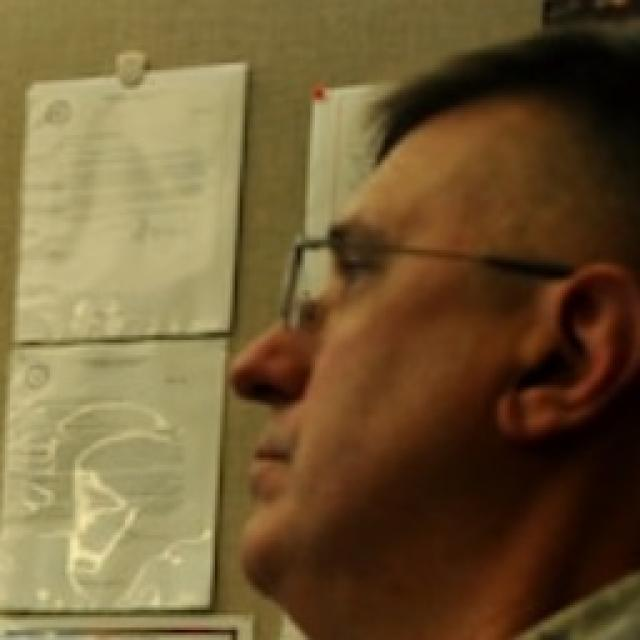glasses: (260, 232, 590, 343)
